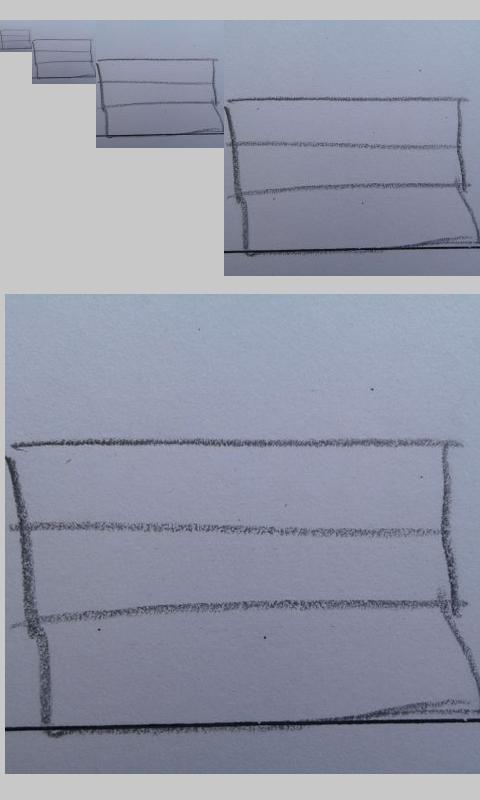list_view: (7, 435, 479, 732), (225, 96, 480, 252), (97, 58, 224, 135), (33, 38, 96, 78), (1, 29, 31, 50)
